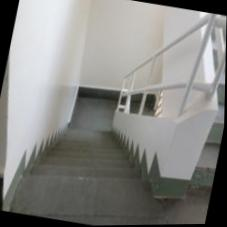Animal: (26, 129, 142, 198)
